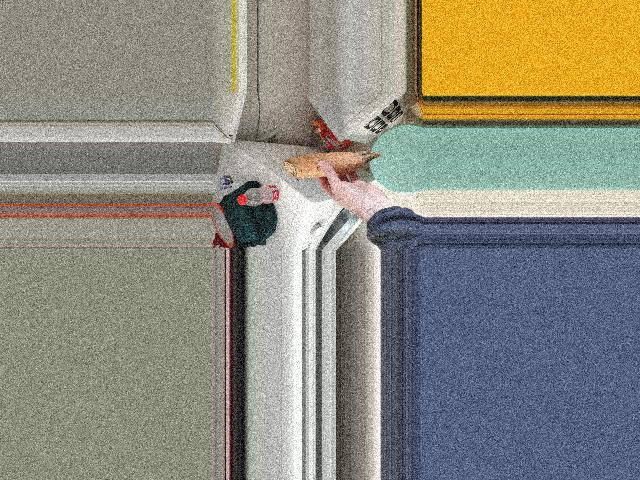sweet_potato: (290, 152, 379, 177)
